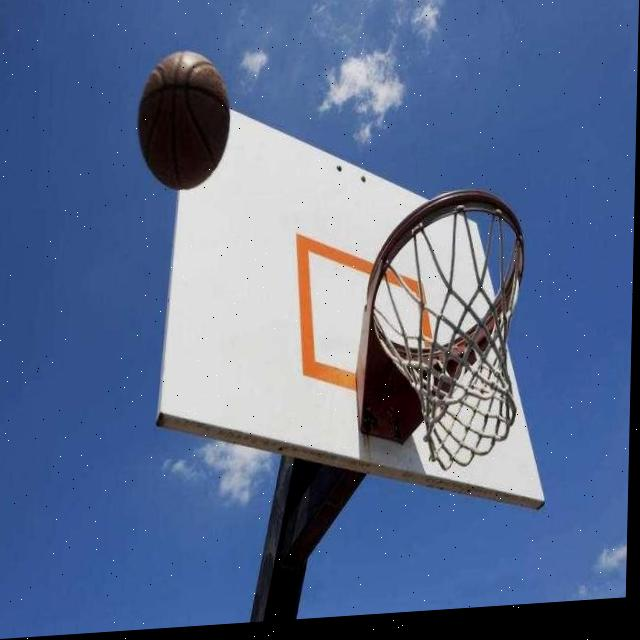Basketball: (136, 45, 232, 194)
